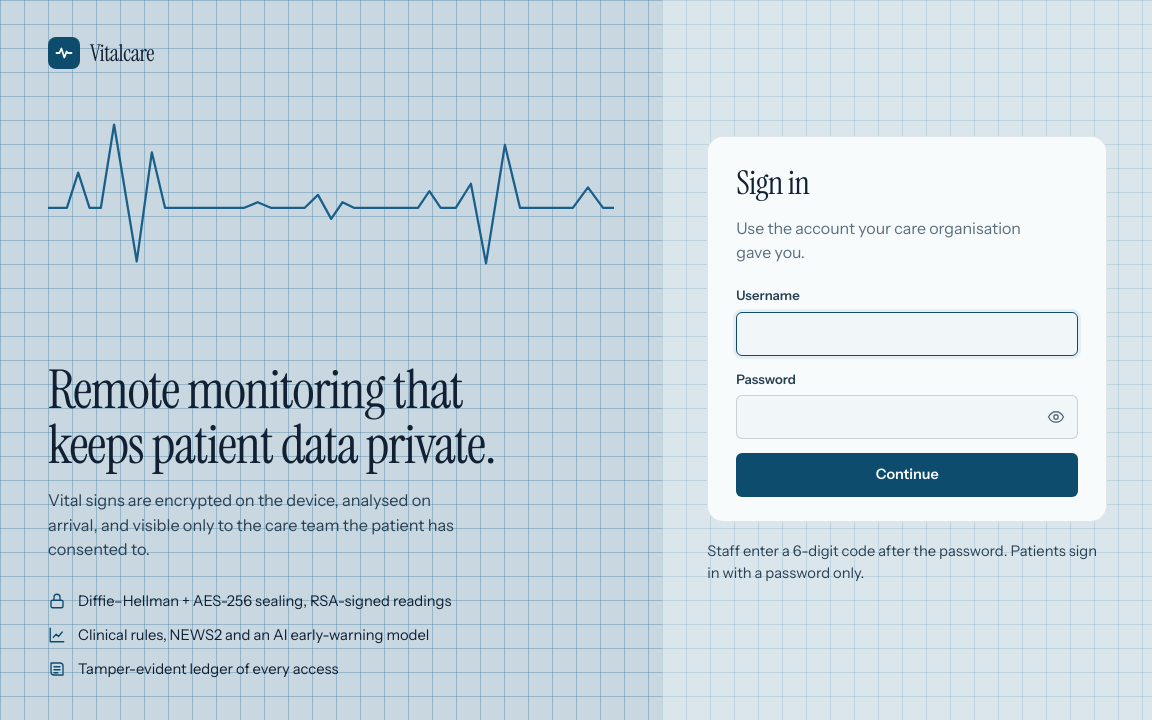
Login › asks for a TOTP code after the password and offers recovery codes
Later steps or results of the test are not shown.
Type "dr.mehta" into the field labelled "Username" at (907,334), box [736, 312, 1078, 356]
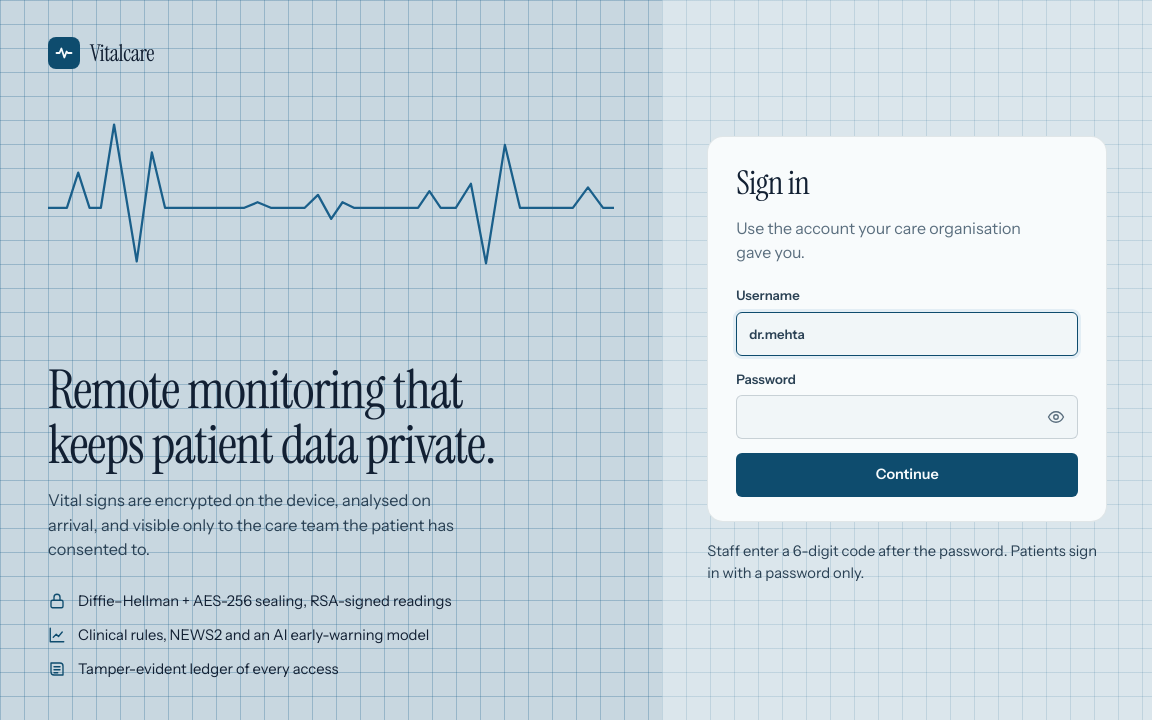
Type "secret-password" into the password field labelled "Password" at (907,417), box [736, 395, 1078, 439]
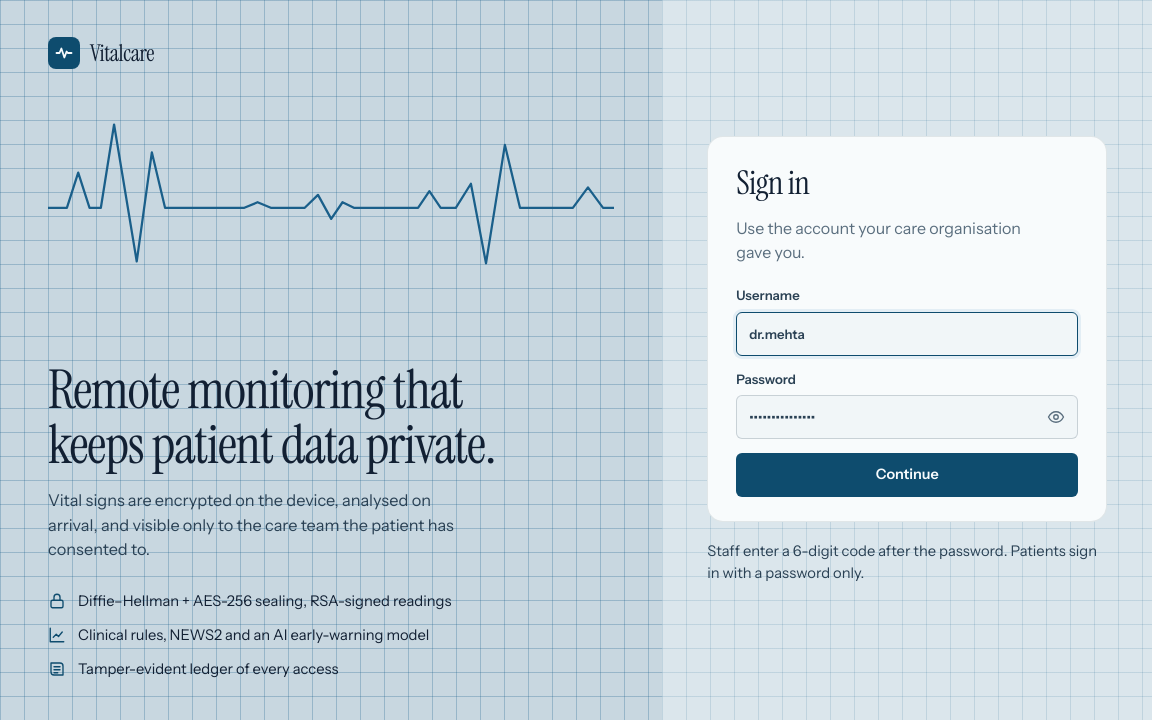
Click the button "Continue" at (907,475), box [736, 453, 1078, 497]
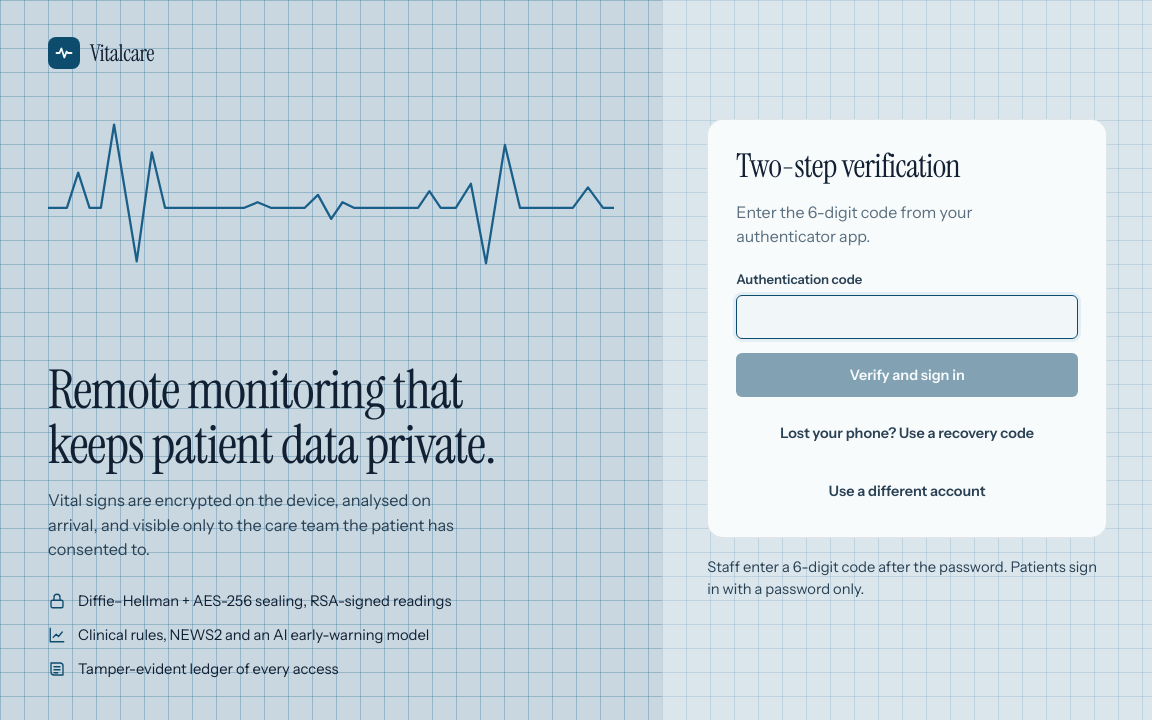
Expected: the field labelled "Authentication code" is shown, [736, 295, 1078, 339]
Now the heading "Two-step verification" is shown, box [736, 146, 960, 188]
